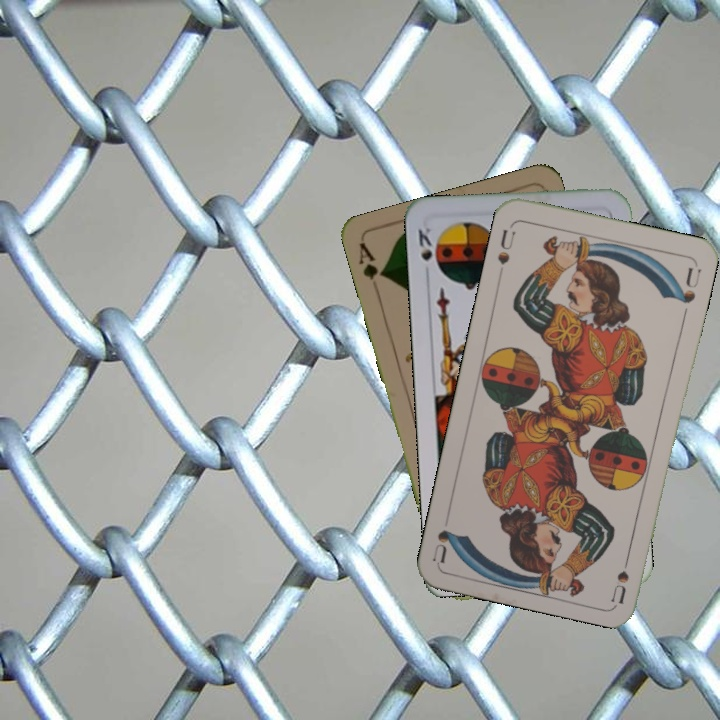GA: (355, 239, 387, 282)
SK: (414, 223, 435, 264)
SU: (608, 544, 634, 603), (493, 221, 518, 268)
